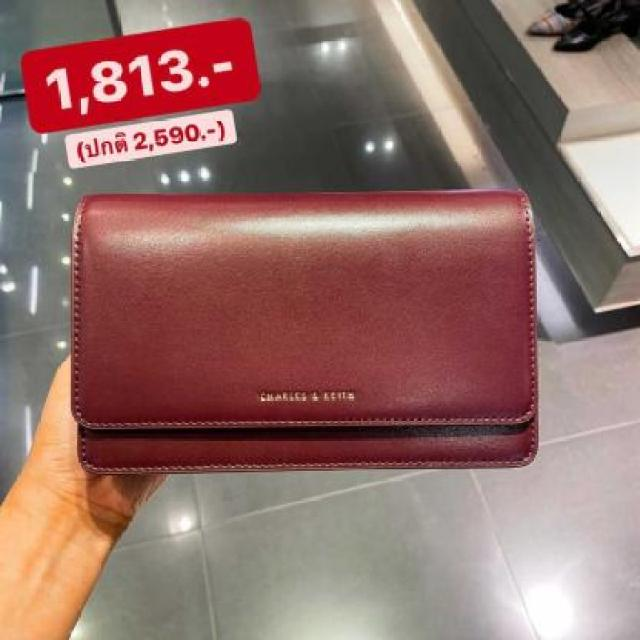Bag: (37, 175, 555, 491)
